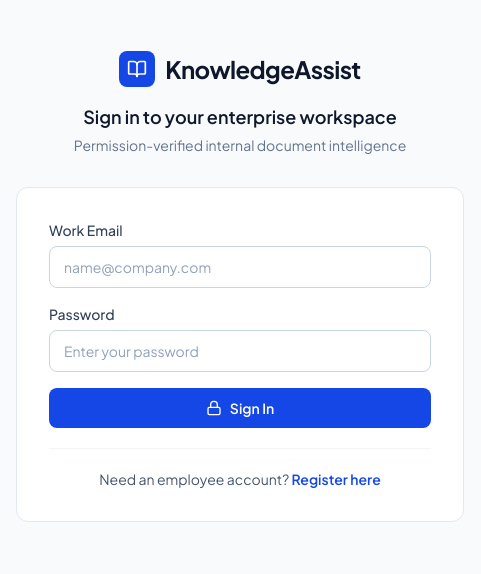
KnowledgeAssist Frontend Component Tests › renders login page and displays API authentication errors
Type "user@company.com" into the field labelled "Work Email".
click(240, 266); type("user@company.com")  # box [49,246,431,288]
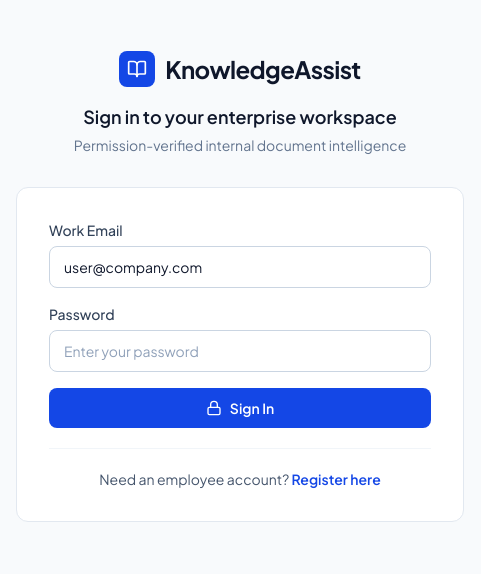
Type "BadPassword1" into the password field labelled "Password".
click(240, 350); type("BadPassword1")  # box [49,330,431,372]
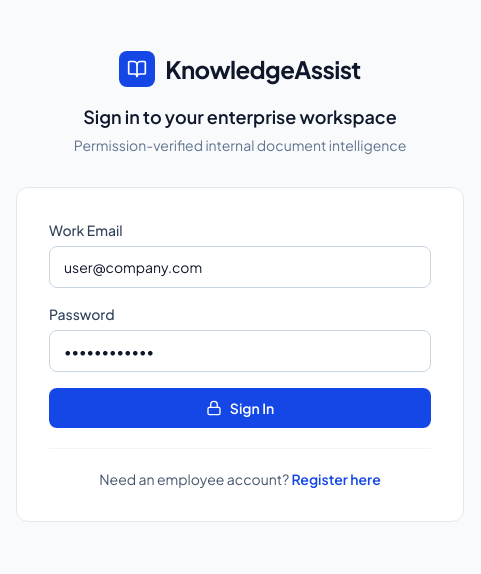
Click the button "Sign In".
click(240, 408)  # box [49,388,431,428]
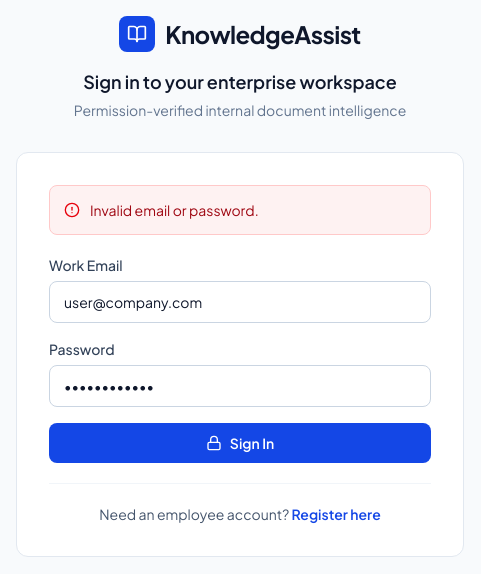
expect the message reads "Invalid email or password.": met, box [90,200,259,218]
